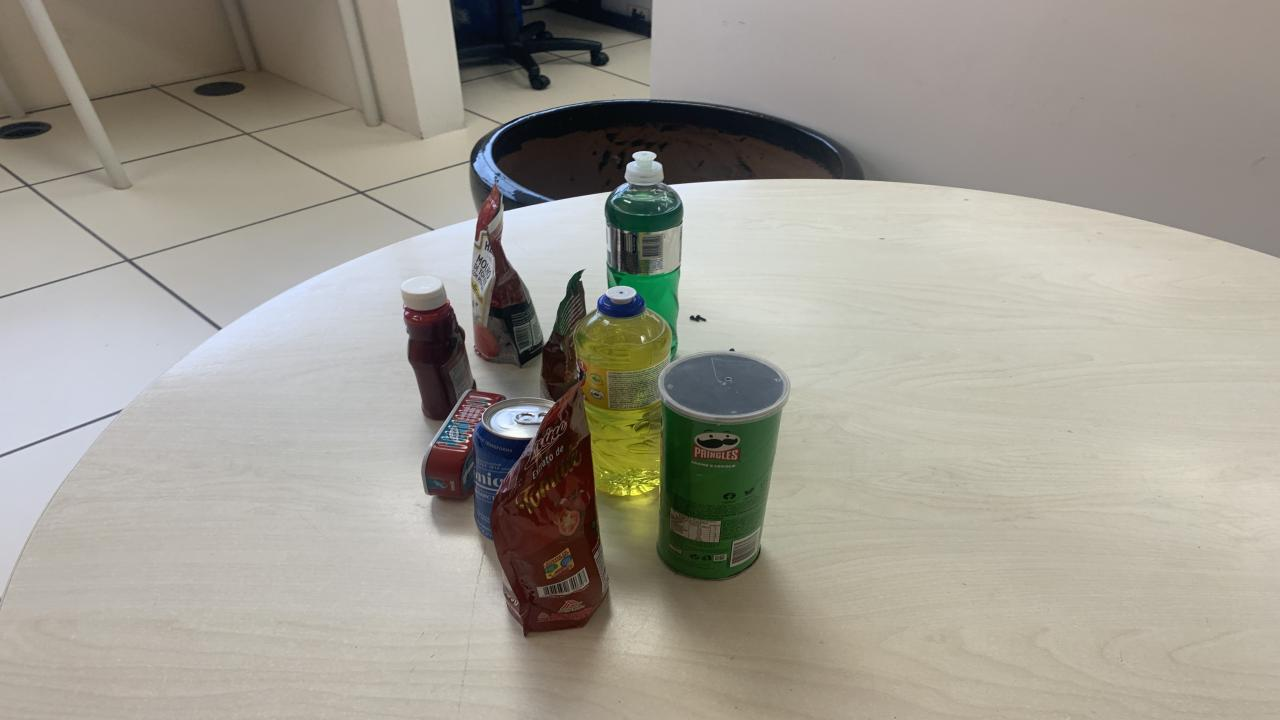Coffee-Pantry_Items: (542, 272, 585, 399)
Detergent-Cleanup_Items: (575, 287, 672, 495), (605, 150, 682, 358)
Ketchup-Pantry_Items: (402, 276, 475, 420)
Pringles-Snacks: (658, 351, 790, 579)
Tomato_Sauce-Pantry_Items: (490, 386, 608, 634), (470, 188, 545, 366)
Tonic-Drinks: (472, 398, 552, 538)
Tuna_Can-Pantry_Items: (422, 390, 502, 499)
